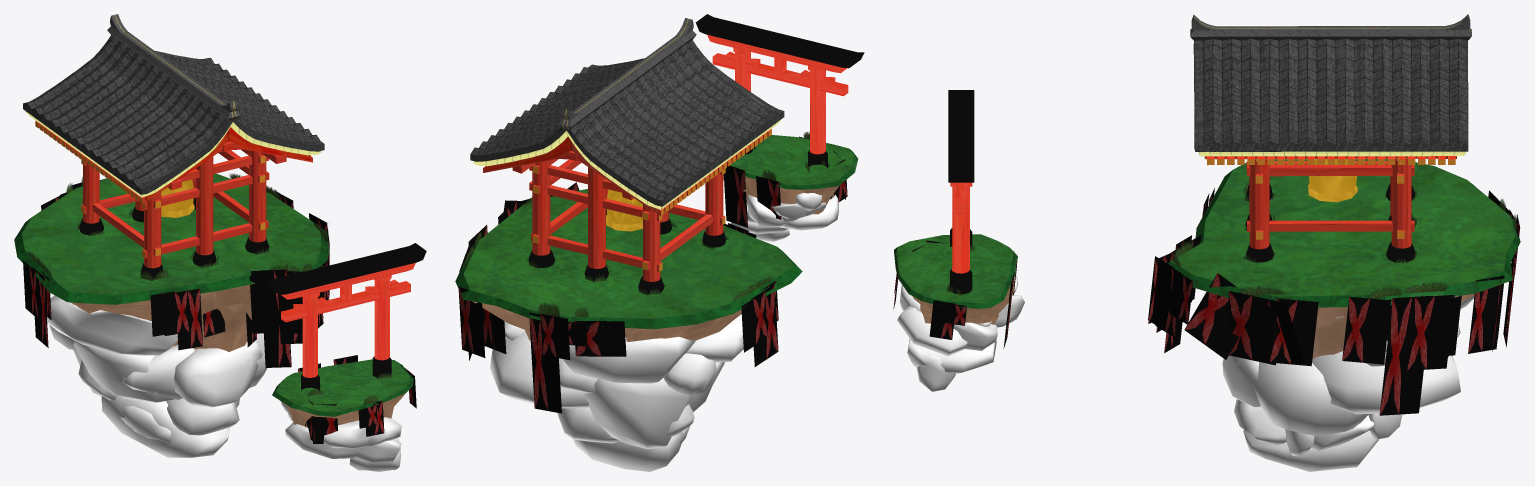
3 views of the same model, side by side, from view 1: azimuth 30°, elevation 25°; view 2: azimuth 150°, elevation 25°; view 3: azimuth 270°, elevation 25° (orthographic). The views are drawn at different scales.
Visible parts, largest first — view 1: tiling_5, island.001_209, island.003_216, Cube.006_82, Cube.008_84, island_201, Cube.011_87, Shrine.010_109, Cube.003_80, roofbeam_6, Cube.036_121, Vines.025_148 (+34 smaller); view 2: island.001_209, tiling_5, Cube.009_85, island.003_216, Cube.007_83, Shrine.010_109, Cube.005_81, roofbeam_6, Cube.011_87, island_201, Vines.011_134, pillar5_208 (+32 smaller); view 3: tiling_5, island.001_209, island.003_216, Cube.010_86, Cube.005_81, roofbeam_6, Vines.004_127, Vines.006_129, Vines.003_126, Vines_122, Cube.011_87, Shrine.010_109 (+24 smaller).
Part boxes in pixels (<box>): tiling_5: <box>23,35,324,194</box>; island.001_209: <box>14,173,329,304</box>; island.003_216: <box>272,359,413,416</box>; Cube.006_82: <box>47,295,177,355</box>; Cube.008_84: <box>174,342,262,407</box>; island_201: <box>71,285,251,351</box>; Cube.011_87: <box>101,395,229,457</box>; Shrine.010_109: <box>265,243,426,294</box>; Cube.003_80: <box>73,341,174,402</box>; roofbeam_6: <box>107,14,240,120</box>; Cube.036_121: <box>166,398,239,435</box>; Vines.025_148: <box>260,269,291,367</box>; island.001_209: <box>455,189,802,329</box>; tiling_5: <box>470,40,784,206</box>; Cube.009_85: <box>584,378,692,449</box>; island.003_216: <box>730,135,858,189</box>; Cube.007_83: <box>562,336,695,383</box>; Shrine.010_109: <box>695,14,864,68</box>; Cube.005_81: <box>490,331,589,408</box>; roofbeam_6: <box>559,18,696,129</box>; Cube.011_87: <box>574,431,683,471</box>; island_201: <box>472,301,741,341</box>; Vines.011_134: <box>529,312,561,413</box>; pillar5_208: <box>588,167,605,268</box>; tiling_5: <box>1193,38,1468,151</box>; island.001_209: <box>1168,159,1520,307</box>; island.003_216: <box>894,234,1017,308</box>; Cube.010_86: <box>1237,362,1368,436</box>; Cube.005_81: <box>1312,351,1460,414</box>; roofbeam_6: <box>1190,14,1471,40</box>; Vines.004_127: <box>1379,296,1431,415</box>; Vines.006_129: <box>1407,295,1454,370</box>; Vines.003_126: <box>1342,296,1390,364</box>; Vines_122: <box>1228,291,1275,365</box>; Cube.011_87: <box>1243,430,1379,471</box>; Shrine.010_109: <box>948,90,974,182</box>.
Bounding box in the file's own units: 14.03 × 18.64 × 23.63.
Materials: 14 (14 with a texture image).
